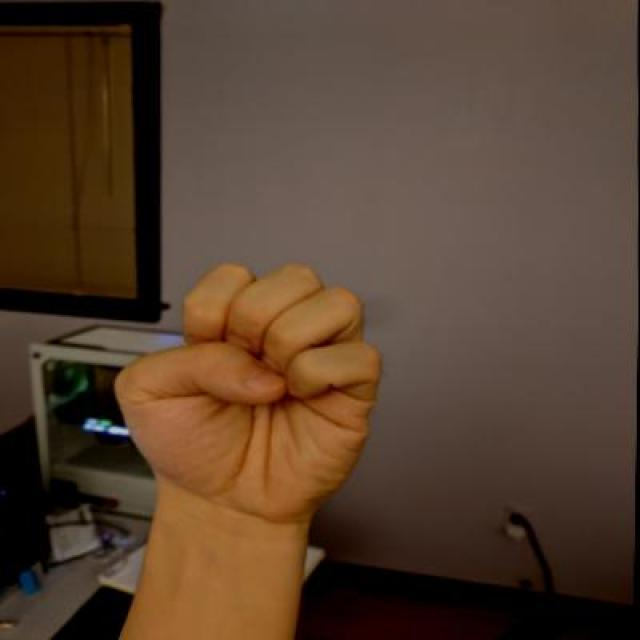E: (107, 193, 397, 556)
